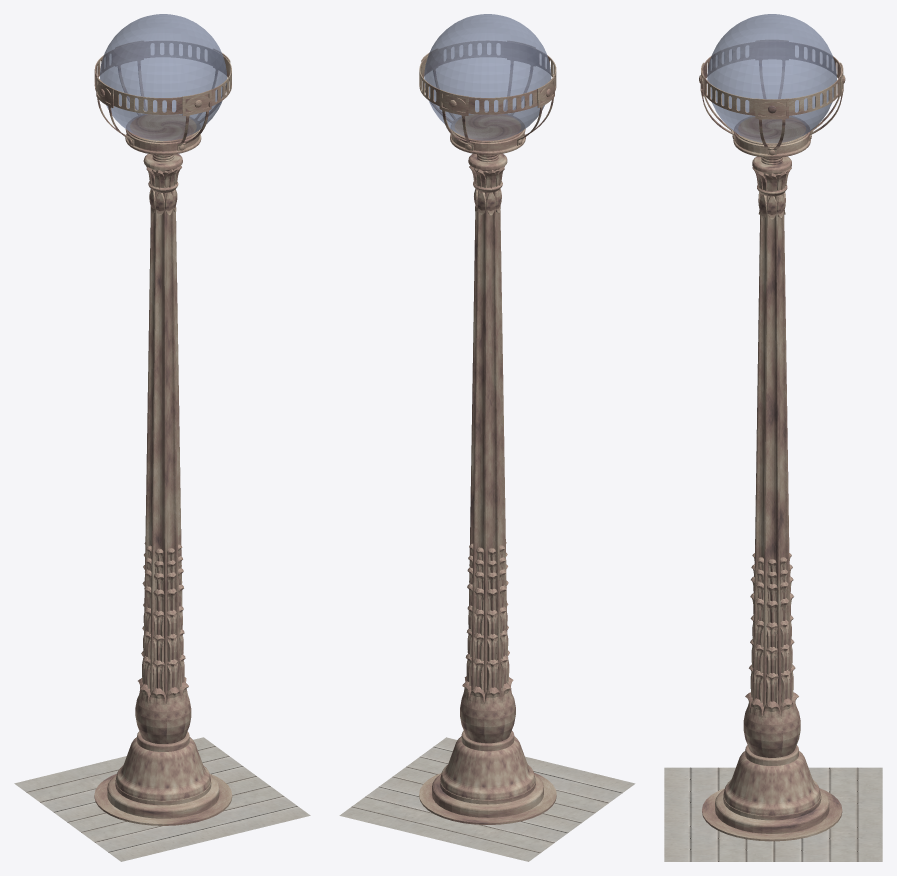
File: Monum.obj
3 views of the same model, side by side, from view 1: azimuth 30°, elevation 25°; view 2: azimuth 150°, elevation 25°; view 3: azimuth 270°, elevation 25° (orthographic). The views are drawn at different scales.
Visible parts, largest first — view 1: Robers_AL6605, Plane001; view 2: Robers_AL6605, Plane001; view 3: Robers_AL6605, Plane001.
Part boxes in pixels (<box>): Robers_AL6605: <box>94,14,232,825</box>; Plane001: <box>14,737,310,861</box>; Robers_AL6605: <box>419,14,556,824</box>; Plane001: <box>339,737,635,861</box>; Robers_AL6605: <box>699,14,845,841</box>; Plane001: <box>664,767,882,861</box>.
Size of the model in its own units: 6173 by 24261 by 6045.
4 materials, 3 textured.
